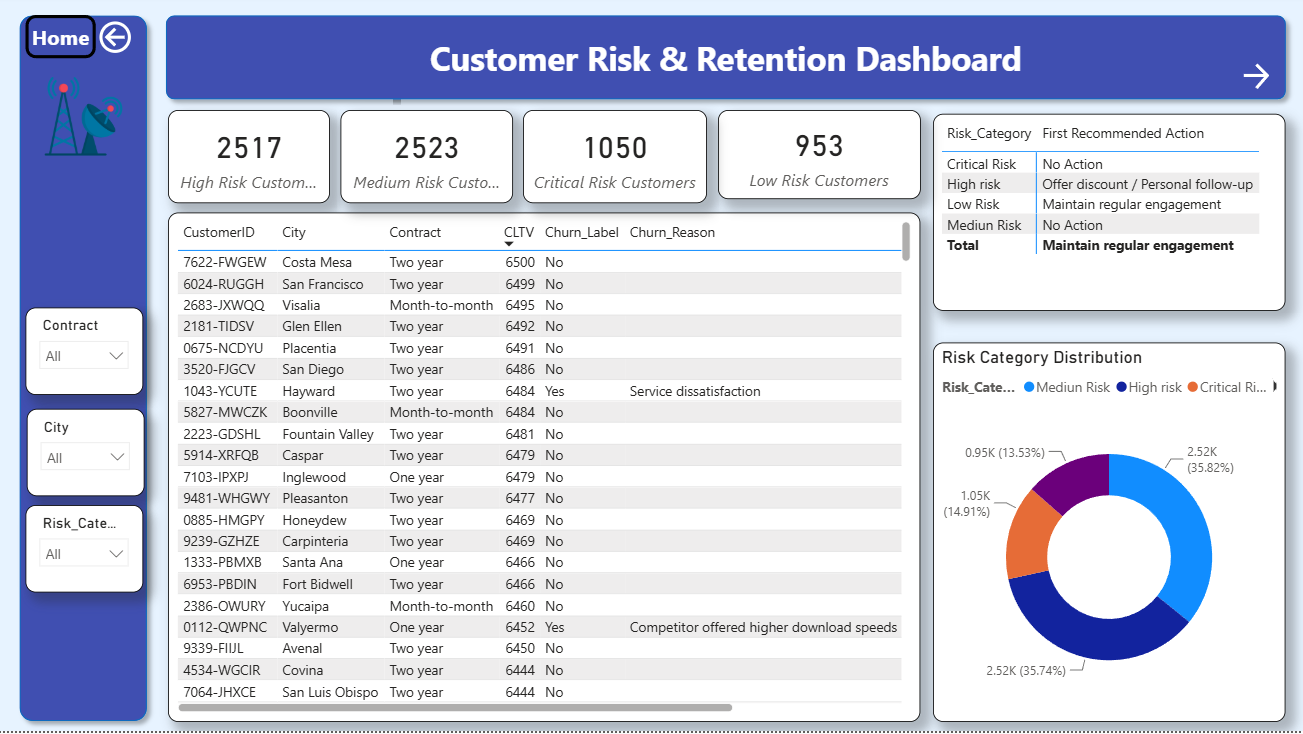

This screenshot's page, from the dashboard's own definition file:
{"tool":"powerbi","page":{"name":"Customer Risk & Retention Dashboard","canvas":[1280,720],"ordinal":7},"visuals":[{"type":"shape","box":[155.2,11.5,1113.5,100.1],"z":0},{"type":"shape","box":[12.8,11.5,142.4,708.1],"z":1000},{"type":"slicer","fields":{"Values":["TELCO.Contract"]},"box":[26.4,305.2,114.9,85.9],"z":2000},{"type":"slicer","fields":{"Values":["TELCO.City"]},"box":[27.7,404.3,114.9,85.9],"z":3000},{"type":"card","fields":{"Values":["TELCO.High Risk Customers"]},"box":[166.5,112.3,158.5,91.2],"z":4000},{"type":"slicer","fields":{"Values":["TELCO.Risk_Category"]},"box":[26.4,499.4,114.9,85.9],"z":5000},{"type":"tableEx","title":"Churn Reasons","fields":{"Values":["TELCO.CustomerID","TELCO.City","TELCO.Contract","TELCO.CLTV","TELCO.Churn_Label","TELCO.Churn_Reason","TELCO.Monthly_Charges","TELCO.Tenure_Months"]},"box":[166.5,212.7,735.9,498.1],"z":6000},{"type":"donutChart","title":"Risk Category Distribution","fields":{"Category":["TELCO.Risk_Category"],"Y":["CountNonNull(TELCO.CustomerID)"]},"box":[914.3,339.6,344.8,371.3],"z":7000},{"type":"pivotTable","fields":{"Rows":["TELCO.Risk_Category"],"Values":["Min(TELCO.Recommended Action)"]},"box":[914.3,116.3,344.8,192.9],"z":8000},{"type":"card","fields":{"Values":["TELCO.Low Risk Customers"]},"box":[704.2,112.3,198.2,87.2],"z":9000},{"type":"card","fields":{"Values":["TELCO.Medium Risk Customers"]},"box":[335.6,112.3,169.1,91.2],"z":10000},{"type":"card","fields":{"Values":["TELCO.Critical Risk Customers"]},"box":[514,112.3,179.7,91.2],"z":11000},{"type":"actionButton","box":[26.4,19.8,68.7,42.3],"z":12000},{"type":"actionButton","box":[93.8,21.1,60.8,41],"z":13000},{"type":"actionButton","box":[1212.6,62.1,67.4,34.4],"z":14000},{"type":"image","box":[45.2,79.5,77,78.3],"z":14001}]}

Visuals, with their boxes in screenshot pixels (x1, y1, x2, y2), scaled from the page's 1280x720 canvas onto the 1303x734 screenshot:
shape: <region>158, 12, 1291, 114</region>
shape: <region>13, 12, 158, 733</region>
slicer - TELCO.Contract: <region>27, 311, 144, 399</region>
slicer - TELCO.City: <region>28, 412, 145, 500</region>
card - TELCO.High Risk Customers: <region>169, 114, 331, 207</region>
slicer - TELCO.Risk_Category: <region>27, 509, 144, 597</region>
"Churn Reasons" tableEx: <region>169, 217, 919, 725</region>
"Risk Category Distribution" donutChart: <region>931, 346, 1282, 725</region>
pivotTable - TELCO.Risk_Category x Min(TELCO.Recommended Action): <region>931, 119, 1282, 315</region>
card - TELCO.Low Risk Customers: <region>717, 114, 919, 203</region>
card - TELCO.Medium Risk Customers: <region>342, 114, 514, 207</region>
card - TELCO.Critical Risk Customers: <region>523, 114, 706, 207</region>
actionButton: <region>27, 20, 97, 63</region>
actionButton: <region>95, 22, 157, 63</region>
actionButton: <region>1234, 63, 1302, 98</region>
image: <region>46, 81, 124, 161</region>
